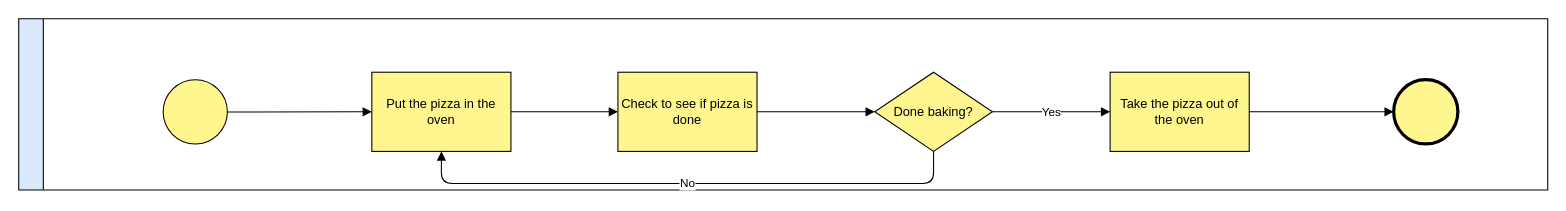
Image size: 1566x211. Some labels were removed from this diagram. The centre of each missing label's shape, as x and y in pixels:
"end" belongs at (1425,111).
"start" belongs at (194,111).
